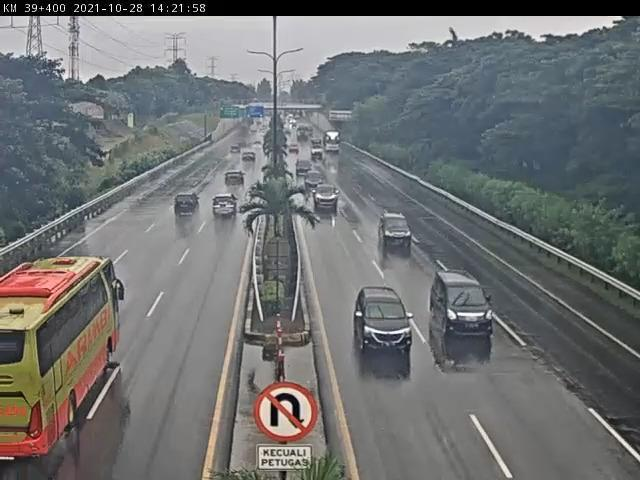bus: (1, 258, 121, 455)
car: (429, 271, 497, 344), (351, 287, 416, 357), (379, 211, 416, 252), (173, 191, 202, 221), (313, 183, 342, 212), (212, 192, 239, 219), (306, 175, 329, 200), (225, 170, 246, 189), (296, 160, 315, 180)
